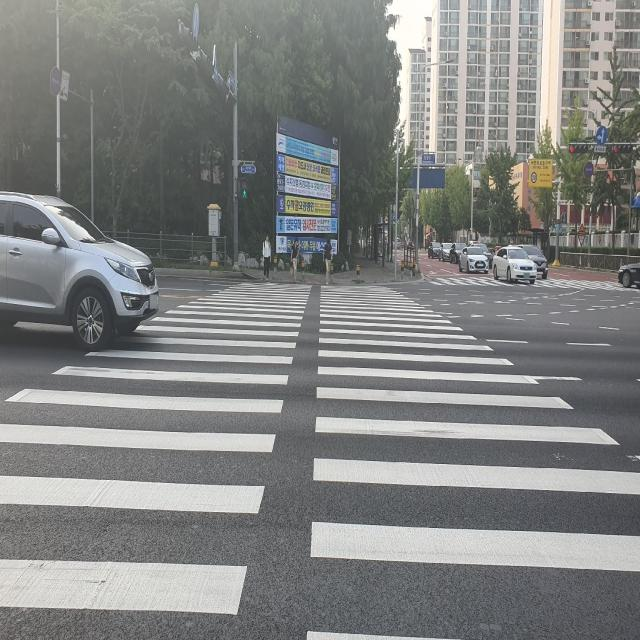초록불: (239, 174, 249, 202)
횡단보도: (0, 279, 640, 640)
